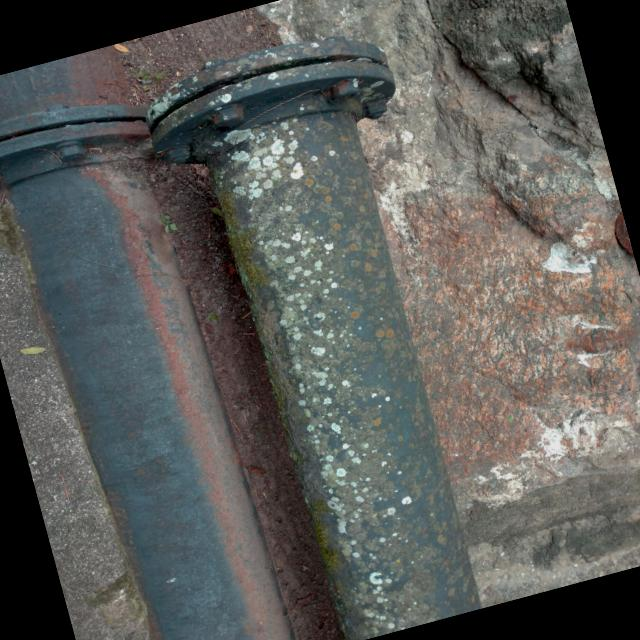gas: (0, 44, 288, 640), (202, 115, 479, 640)
